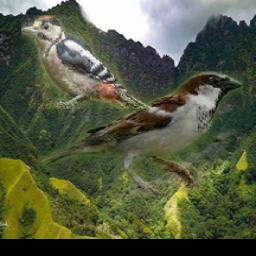Sparrow: (37, 71, 242, 197)
Woodpecker: (21, 16, 152, 110)
